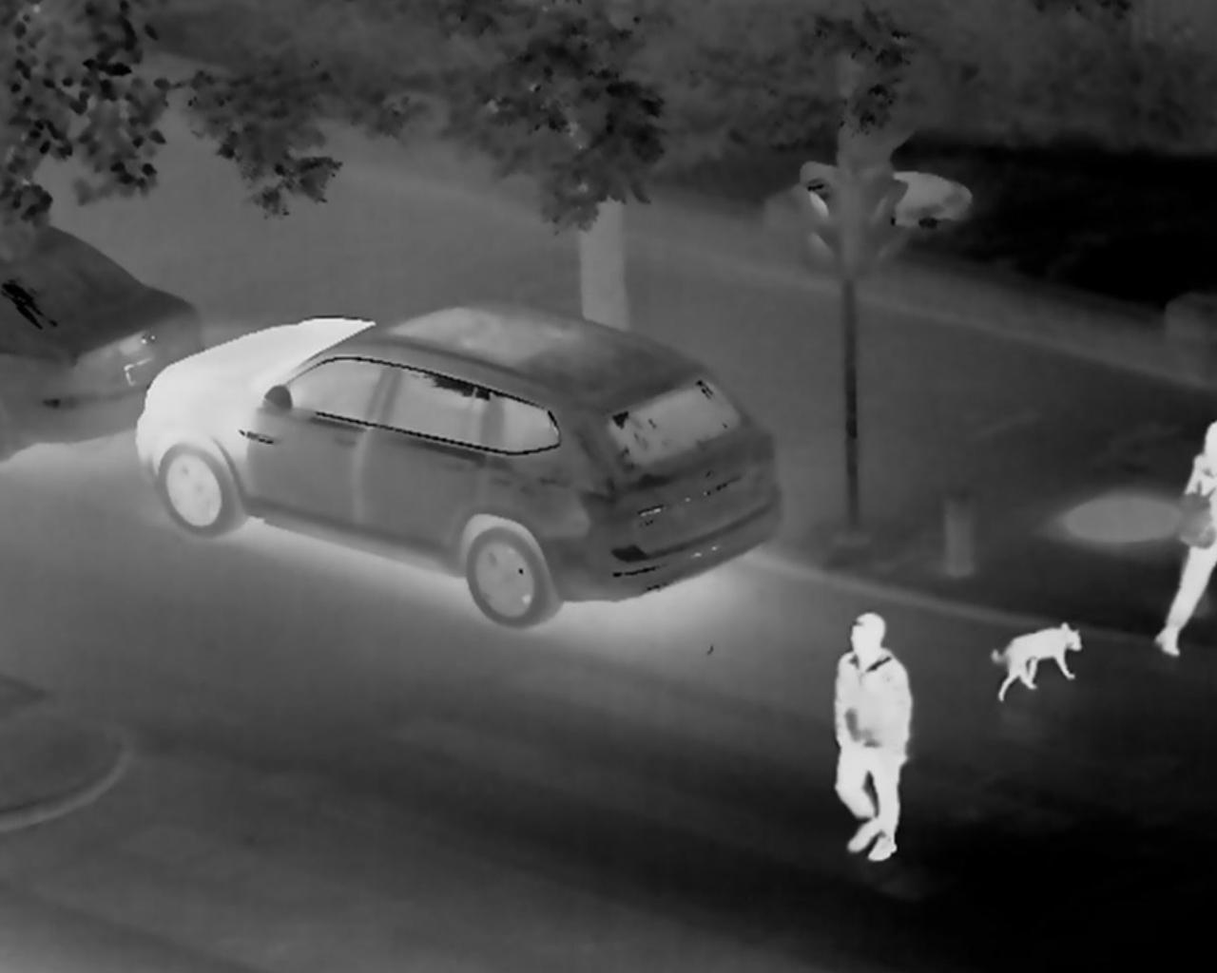person: (827, 605, 911, 865), (1151, 413, 1217, 659)
